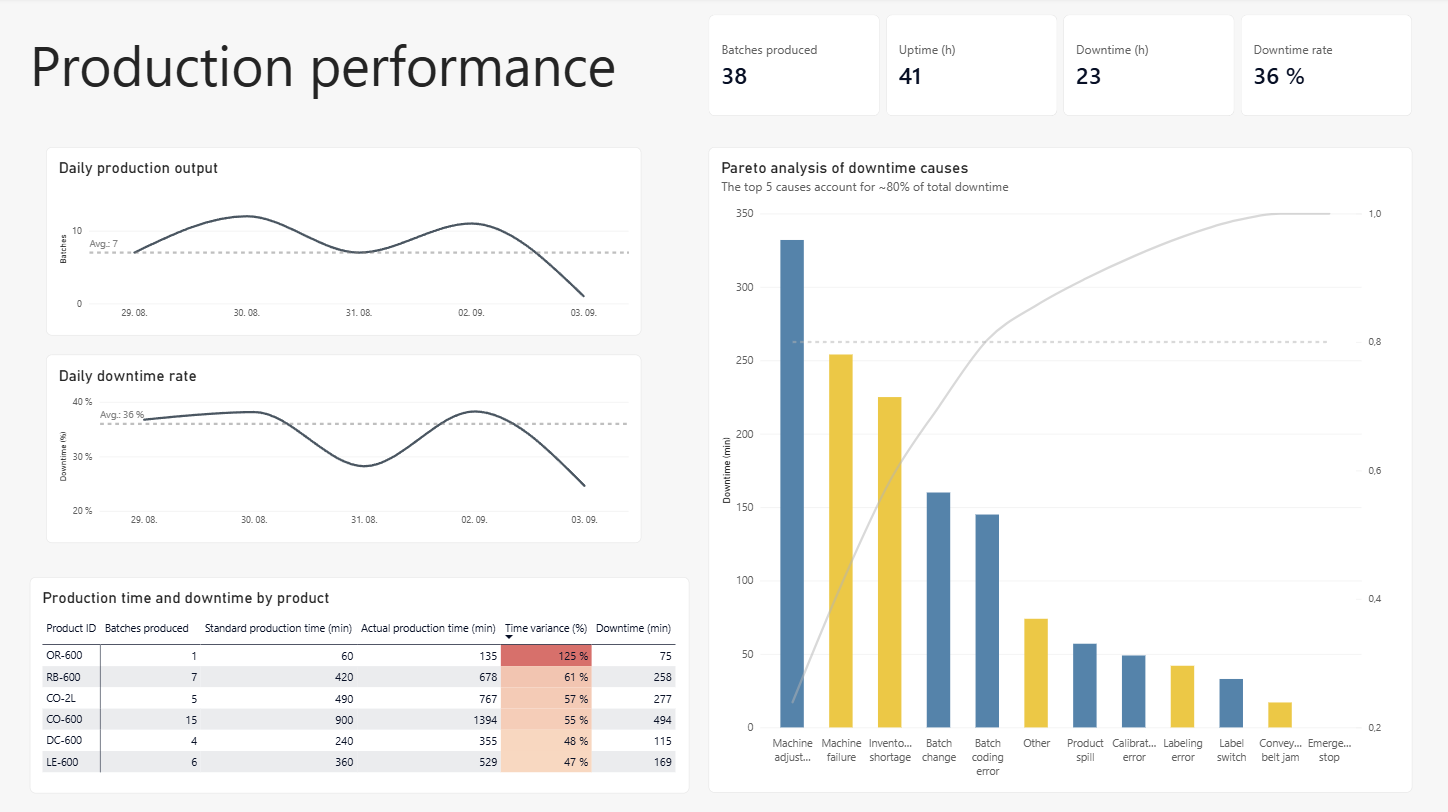

What the dashboard file says about the page in this screenshot:
{"tool":"powerbi","page":{"name":"Production performance","canvas":[1920,1080],"ordinal":0},"visuals":[{"type":"lineClusteredColumnComboChart","title":"Pareto analysis of downtime causes","fields":{"Y":["Sum(Line downtime.Downtime (min))","select1"],"Y2":["select","_Measures table.Pareto 80% line"],"Category":["Downtime factors.Description"]},"box":[939.4,198.5,928.8,852.1],"z":0},{"type":"cardVisual","fields":{"Data":["CountNonNull(Line productivity.Batch ID)","Line productivity.Total uptime","Downtime factors.Total downtime (hours)","_Measures table.Downtime %"]},"box":[939.4,23.8,928.8,135],"z":1000},{"type":"pivotTable","title":"Production time and downtime by product","fields":{"Values":["CountNonNull(Line productivity.Batch ID)","_Measures table.Standard production time (min)","_Measures table.Actual production time (min)","_Measures table.Time variance %","_Measures table.Total downtime (min)"],"Rows":["Products.Product ID"]},"box":[45,764.7,870.6,285.8],"z":2000},{"type":"textbox","box":[45,39.7,778,108.5],"z":3000},{"type":"lineChart","title":"Daily production output","fields":{"Category":["Z_Date table?.Date"],"Y":["CountNonNull(Line productivity.Batch ID)"]},"box":[66.2,198.5,785.9,248.7],"z":4000},{"type":"lineChart","title":"Daily downtime rate","fields":{"Category":["Z_Date table?.Date"],"Y":["_Measures table.Downtime %"]},"box":[66.2,471,785.9,248.7],"z":5000}]}

Visuals, with their boxes in screenshot pixels (x1, y1, x2, y2), scaled from the page's 1920x1080 canvas onto the 1448x812 screenshot:
"Pareto analysis of downtime causes" lineClusteredColumnComboChart: (708, 149, 1409, 790)
cardVisual - CountNonNull(Line productivity.Batch ID) x Line productivity.Total uptime: (708, 18, 1409, 119)
"Production time and downtime by product" pivotTable: (34, 575, 691, 790)
textbox: (34, 30, 621, 111)
"Daily production output" lineChart: (50, 149, 643, 336)
"Daily downtime rate" lineChart: (50, 354, 643, 541)
